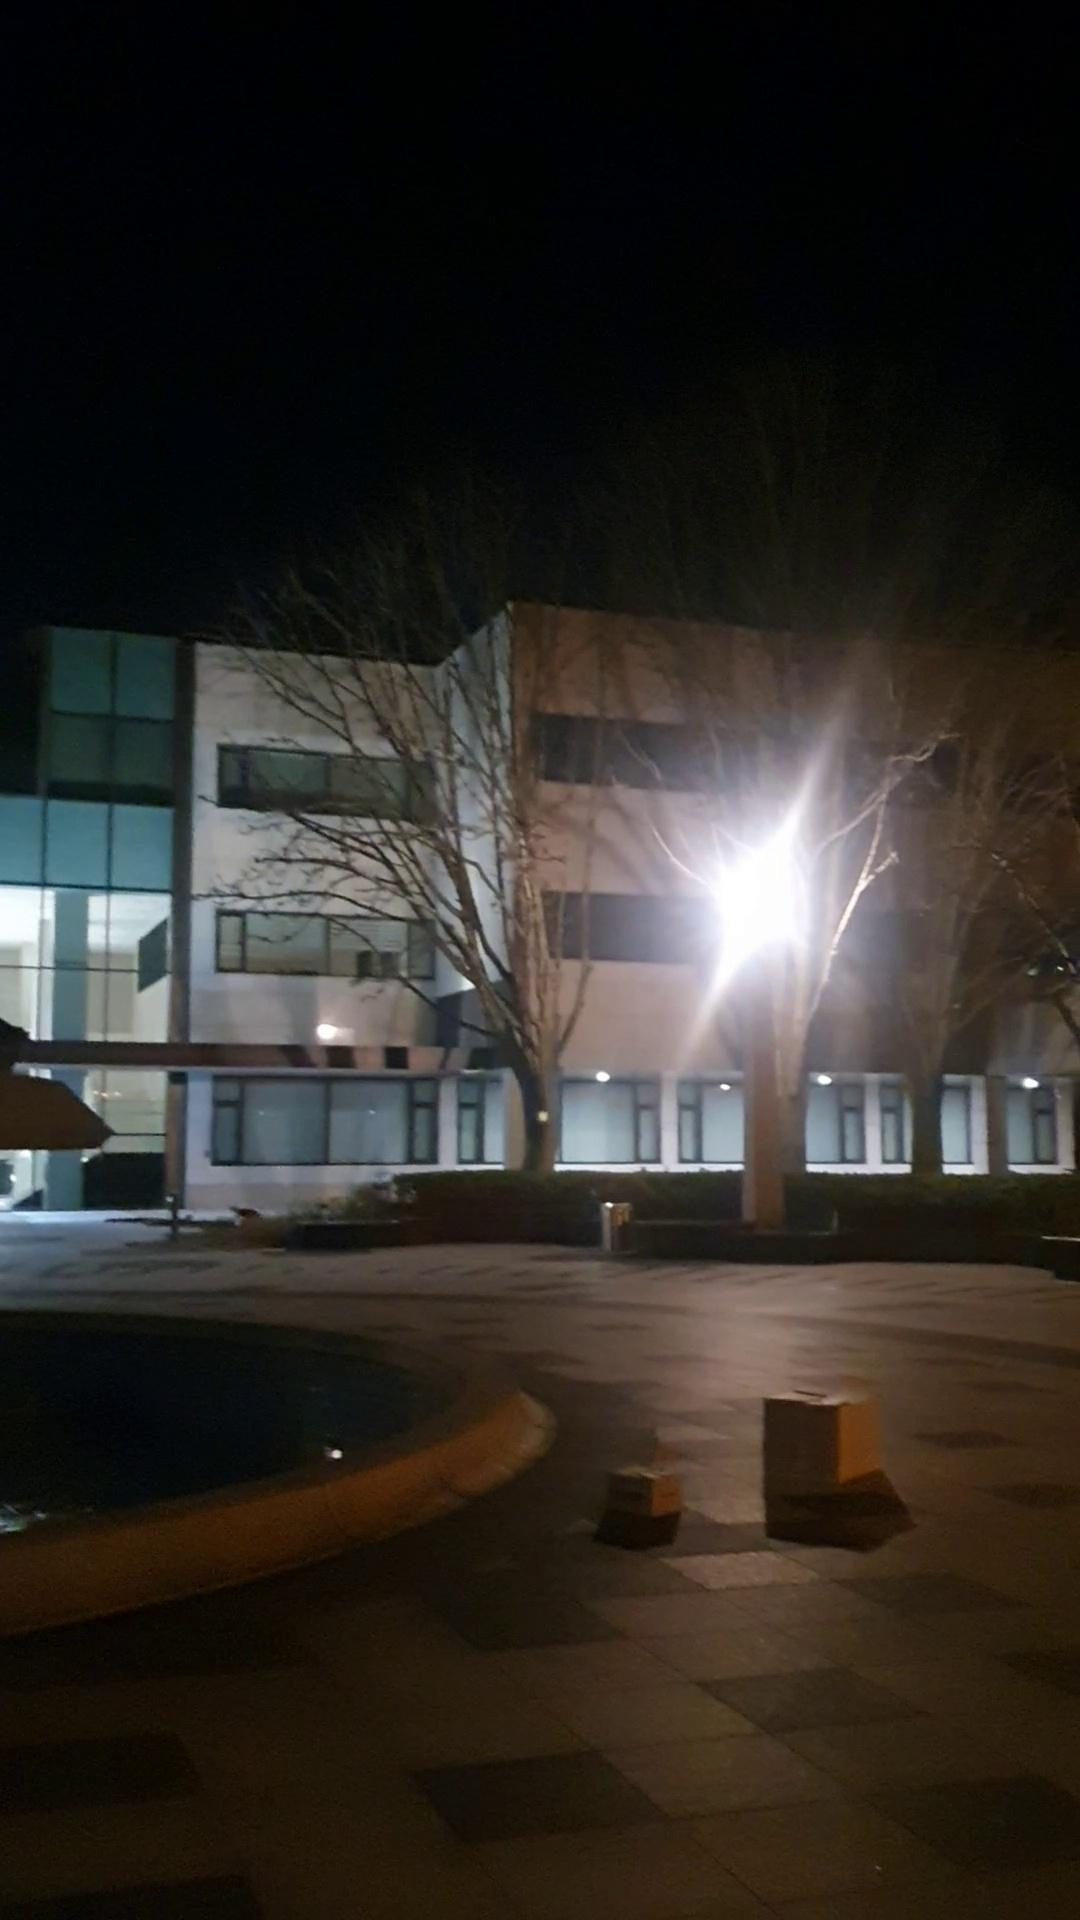Box: (764, 1378, 877, 1515), (601, 1458, 700, 1534)
